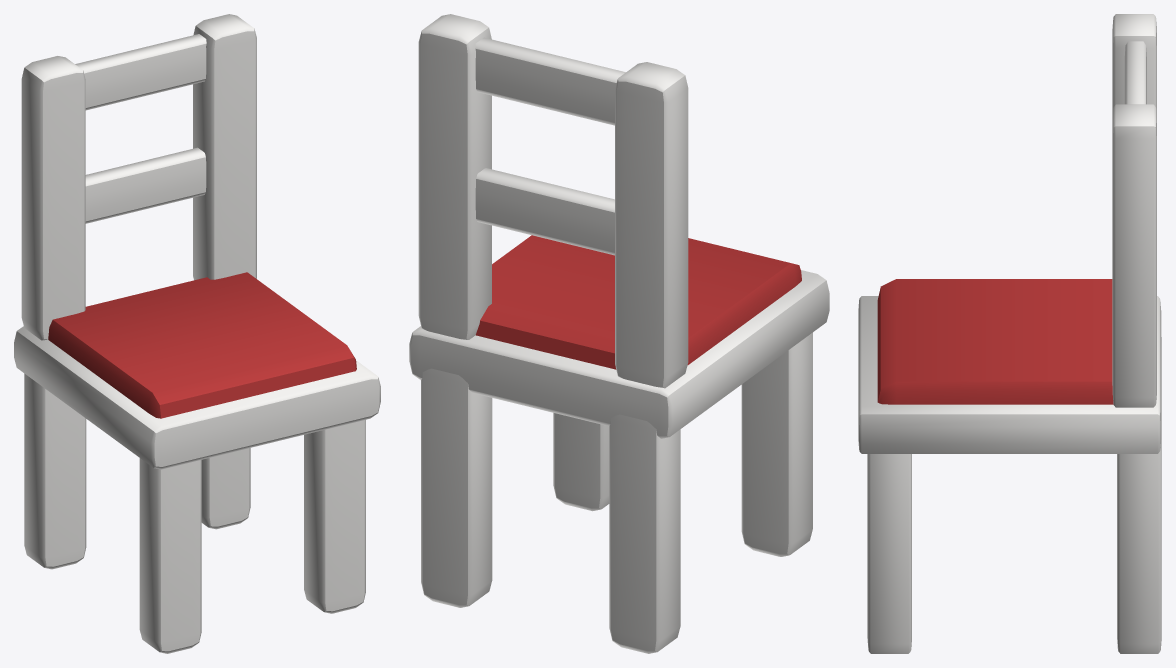
The model's file is SM_chair_01.fbx.
3 views of the same model, side by side, from view 1: azimuth 30°, elevation 25°; view 2: azimuth 150°, elevation 25°; view 3: azimuth 270°, elevation 25° (orthographic). The views are drawn at different scales.
Visible parts, largest first — view 1: Object037; view 2: Object037; view 3: Object037.
Boxes of the visible parts, x1,y1,x2,y2 form: Object037: (14, 14, 380, 653); Object037: (409, 14, 829, 653); Object037: (858, 14, 1161, 653).
Size of the model in its own units: 25.59 by 52.9 by 27.06.
